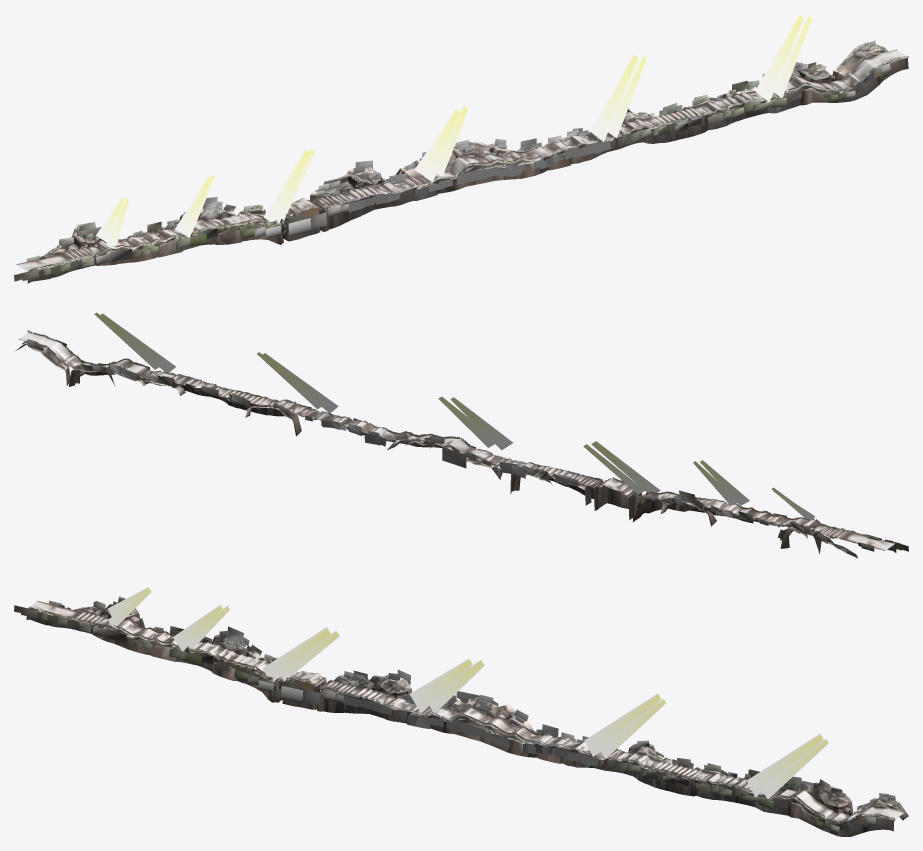
The model's file is Forest_11.fbx.
3 renders of one model, top to bottom at view 1: azimuth 30°, elevation 25°; view 2: azimuth 150°, elevation 25°; view 3: azimuth 330°, elevation 25°, orthographic.
Parts seen in each view (by area): view 1: Tree_01, Mountain_01, Light_01, Ground_01; view 2: Tree_01, Ground_01, Mountain_01, Light_01; view 3: Tree_01, Mountain_01, Light_01, Ground_01.
Boxes of the visible parts, box(x1,y1,x2,y2) form: Tree_01: box(14, 40, 908, 281); Mountain_01: box(26, 45, 908, 283); Light_01: box(96, 14, 812, 248); Ground_01: box(16, 49, 904, 271); Tree_01: box(22, 330, 908, 551); Ground_01: box(18, 332, 894, 550); Mountain_01: box(14, 332, 896, 557); Light_01: box(94, 312, 814, 520); Tree_01: box(14, 596, 900, 832); Mountain_01: box(26, 602, 908, 836); Light_01: box(108, 587, 828, 798); Ground_01: box(29, 601, 904, 821).
Bounding box in the file's own units: 76703 × 7076 × 4106.
